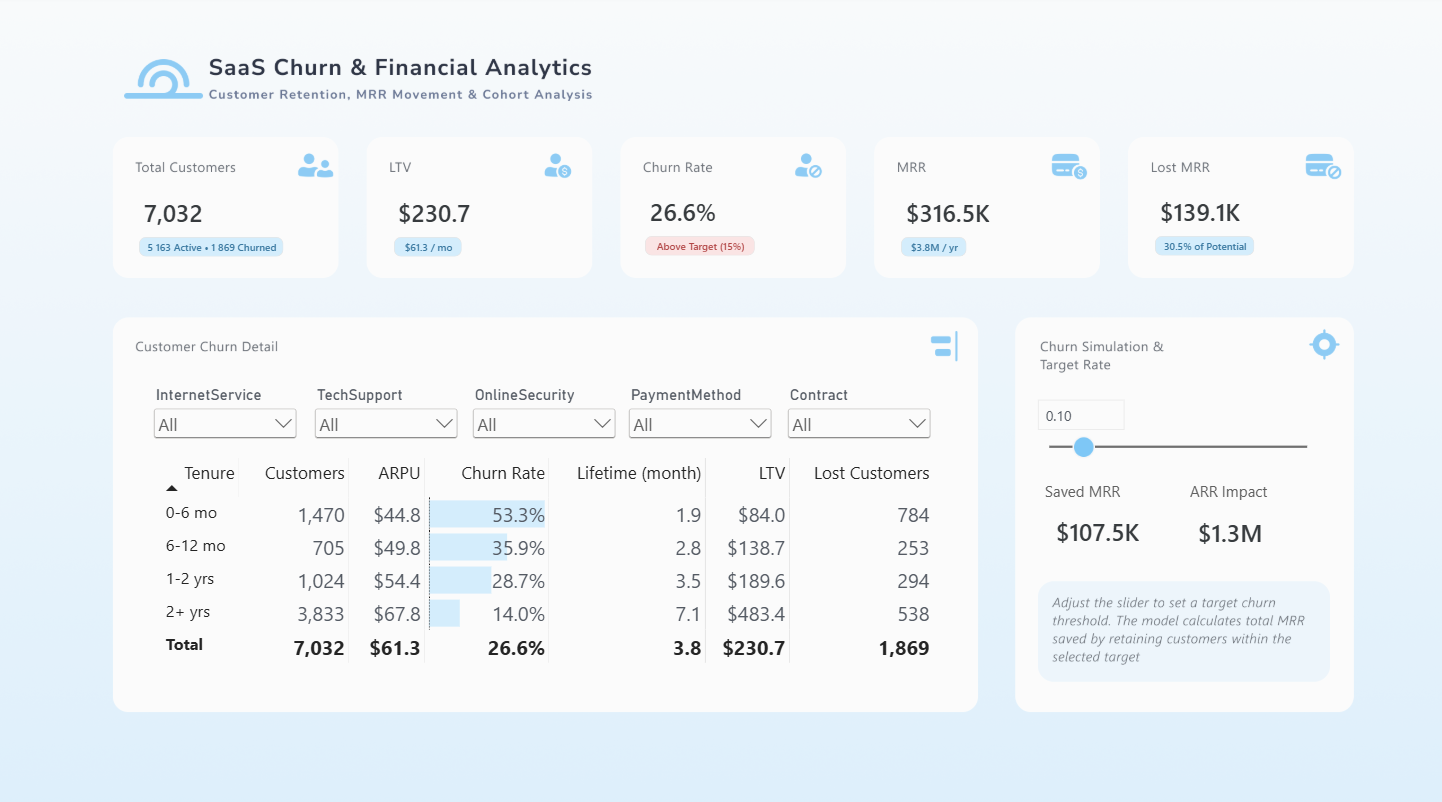

The dashboard page shown, as its layout file describes it:
{"tool":"powerbi","page":{"name":"Страница 1","canvas":[1920,1080],"ordinal":0},"visuals":[{"type":"slicer","fields":{"Values":["Target Churn.Target Churn"]},"box":[1372.9,531.4,386,137],"z":0},{"type":"cardVisual","fields":{"Data":["_Measures.Total Customers Formatted"]},"box":[175,255,249,49],"z":1000},{"type":"cardVisual","fields":{"Data":["_Measures.Churn Rate Card"]},"box":[849,257,267,46],"z":2000},{"type":"cardVisual","fields":{"Data":["_Measures.MRR Card"]},"box":[1189,251,251,57],"z":3000},{"type":"cardVisual","fields":{"Data":["_Measures.Lost MRR Card"]},"box":[1527.5,253,269,54],"z":4000},{"type":"cardVisual","fields":{"Data":["_Measures.LTV Card"]},"box":[513,257.5,263,45],"z":5000},{"type":"pivotTable","fields":{"Rows":["Fact_Churn.Tenure_Group"],"Values":["_Measures.Total Customers","_Measures.ARPU","_Measures.Churn Rate %","_Measures.Lifetime (month)","_Measures.LTV","Sum(Fact_Churn.Churn)"]},"box":[200,600,1085.7,322.9],"z":6000},{"type":"cardVisual","fields":{"Data":["_Measures.Potential Saved ARR Card"]},"box":[1577.1,630,204.3,151.4],"z":7000},{"type":"slicer","fields":{"Values":["Dim_Services.InternetService"]},"box":[200,518.8,200,90.4],"z":8000},{"type":"slicer","fields":{"Values":["Dim_Services.TechSupport"]},"box":[413.8,518.8,200,90],"z":9000},{"type":"slicer","fields":{"Values":["Dim_Contract.PaymentMethod"]},"box":[831.2,518.8,200,90],"z":10000},{"type":"slicer","fields":{"Values":["Dim_Services.OnlineSecurity"]},"box":[623.8,518.8,200,90],"z":11000},{"type":"cardVisual","fields":{"Data":["_Measures.Active_vs_Churned_Text"]},"box":[185,320,192,26],"z":12000},{"type":"cardVisual","fields":{"Data":["_Measures.ARPU Formatted"]},"box":[523.5,320,90,26.2],"z":13000},{"type":"cardVisual","fields":{"Data":["_Measures.Churn_Benchmark_Status_Text"]},"box":[858.3,319.4,146.2,26.2],"z":14000},{"type":"cardVisual","fields":{"Data":["_Measures.ARR Formatted"]},"box":[1198.3,320,87.5,26.2],"z":15000},{"type":"cardVisual","fields":{"Data":["_Measures.Lost_MRR_Subtext"]},"box":[1535.6,319.4,132.5,26.2],"z":16000},{"type":"slicer","fields":{"Values":["Dim_Contract.Contract"]},"box":[1042.5,518.8,200,90],"z":17000},{"type":"textbox","box":[150,40.5,300,150],"z":18000},{"type":"cardVisual","fields":{"Data":["_Measures.Potential Saved MRR Card"]},"box":[1388,629.3,200,151.7],"z":20000},{"type":"cardVisual","fields":{"Data":["Target Churn.Значение Target Churn"]},"box":[1567,629.3,161.1,73.3],"z":20001},{"type":"cardVisual","fields":{"Data":["Target Churn.Значение Target Churn"]},"box":[1373.3,629.3,161.1,73.3],"z":20002}]}

Visuals, with their boxes in screenshot pixels (x1, y1, x2, y2), scaled from the page's 1920x1080 canvas onto the 1442x802 screenshot:
slicer - Target Churn.Target Churn: bbox=[1031, 395, 1321, 496]
cardVisual - _Measures.Total Customers Formatted: bbox=[131, 189, 318, 226]
cardVisual - _Measures.Churn Rate Card: bbox=[638, 191, 838, 225]
cardVisual - _Measures.MRR Card: bbox=[893, 186, 1082, 229]
cardVisual - _Measures.Lost MRR Card: bbox=[1147, 188, 1349, 228]
cardVisual - _Measures.LTV Card: bbox=[385, 191, 583, 225]
pivotTable - Fact_Churn.Tenure_Group x _Measures.Total Customers: bbox=[150, 446, 966, 685]
cardVisual - _Measures.Potential Saved ARR Card: bbox=[1184, 468, 1338, 580]
slicer - Dim_Services.InternetService: bbox=[150, 385, 300, 452]
slicer - Dim_Services.TechSupport: bbox=[311, 385, 461, 452]
slicer - Dim_Contract.PaymentMethod: bbox=[624, 385, 774, 452]
slicer - Dim_Services.OnlineSecurity: bbox=[468, 385, 619, 452]
cardVisual - _Measures.Active_vs_Churned_Text: bbox=[139, 238, 283, 257]
cardVisual - _Measures.ARPU Formatted: bbox=[393, 238, 461, 257]
cardVisual - _Measures.Churn_Benchmark_Status_Text: bbox=[645, 237, 754, 257]
cardVisual - _Measures.ARR Formatted: bbox=[900, 238, 966, 257]
cardVisual - _Measures.Lost_MRR_Subtext: bbox=[1153, 237, 1253, 257]
slicer - Dim_Contract.Contract: bbox=[783, 385, 933, 452]
textbox: bbox=[113, 30, 338, 141]
cardVisual - _Measures.Potential Saved MRR Card: bbox=[1042, 467, 1193, 580]
cardVisual - Target Churn.Значение Target Churn: bbox=[1177, 467, 1298, 522]
cardVisual - Target Churn.Значение Target Churn: bbox=[1031, 467, 1152, 522]
